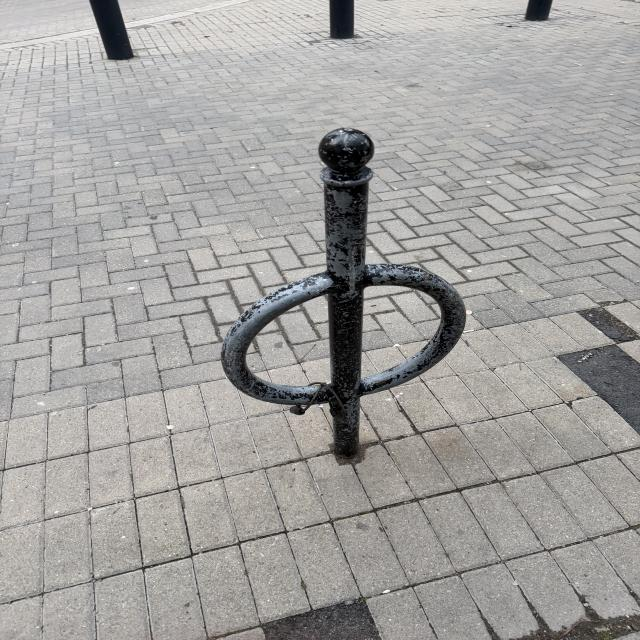Bicycle Rack: (222, 129, 466, 457)
